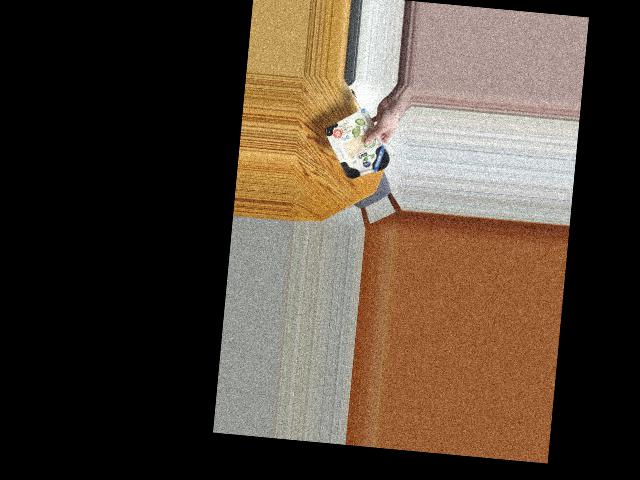cheese: (325, 114, 393, 187)
